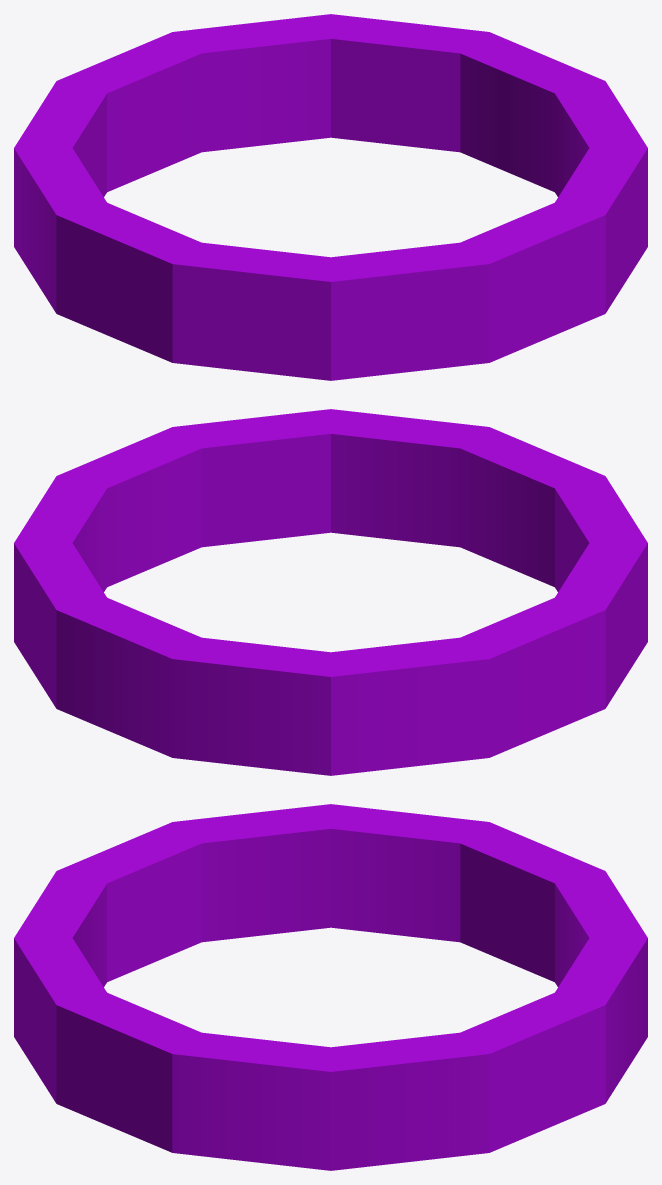
The model's file is Star_Base.fbx.
The picture shows the model from 3 angles, top to bottom: view 1: azimuth 30°, elevation 25°; view 2: azimuth 150°, elevation 25°; view 3: azimuth 270°, elevation 25°; orthographic projection.
Visible parts, largest first — view 1: Star_Base; view 2: Star_Base; view 3: Star_Base.
Part boxes in pixels (x1=…): Star_Base: x1=14, y1=14, x2=647, y2=380; Star_Base: x1=14, y1=409, x2=647, y2=775; Star_Base: x1=14, y1=804, x2=647, y2=1170.
Size of the model in its own units: 5.94 by 1.02 by 5.94.
